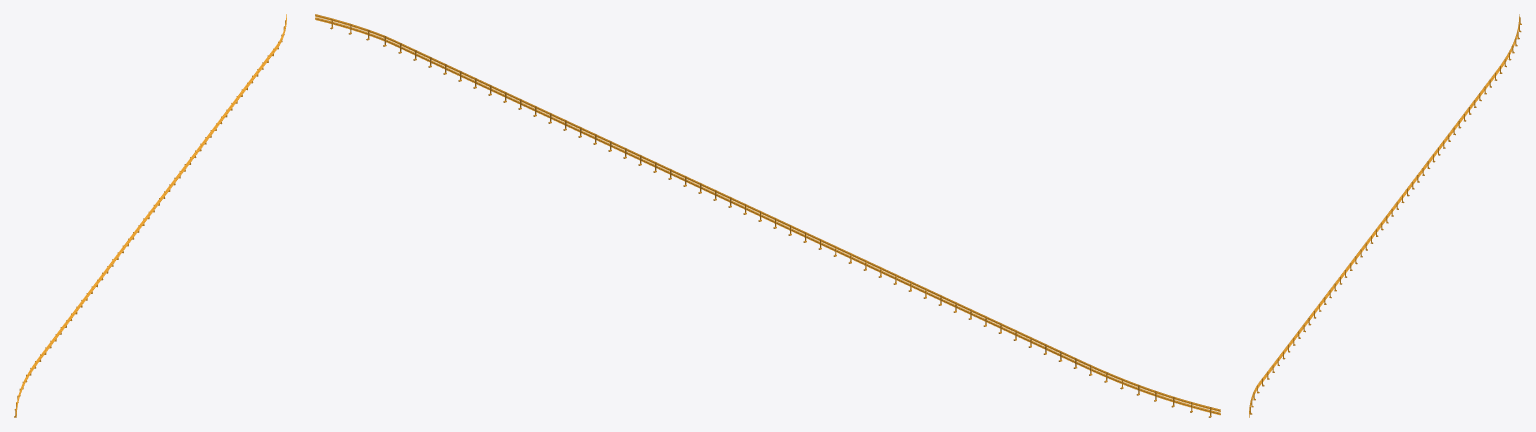
File: SM_Fence_Road_WBeam_Double_Metal_140x40m_Shift.fbx
The picture shows the model from 3 angles, left to right: view 1: azimuth 90°, elevation 25°; view 2: azimuth 150°, elevation 25°; view 3: azimuth 270°, elevation 25°; orthographic projection. The views are drawn at different scales.
Visible parts, largest first — view 1: SM_Fence_Road_WBeam_Double_Metal_140x40m_Shift; view 2: SM_Fence_Road_WBeam_Double_Metal_140x40m_Shift; view 3: SM_Fence_Road_WBeam_Double_Metal_140x40m_Shift.
Boxes of the visible parts, x1,y1,x2,y2 form: SM_Fence_Road_WBeam_Double_Metal_140x40m_Shift: [14, 14, 286, 417]; SM_Fence_Road_WBeam_Double_Metal_140x40m_Shift: [315, 14, 1220, 417]; SM_Fence_Road_WBeam_Double_Metal_140x40m_Shift: [1249, 14, 1521, 417].
Bounding box in the file's own units: 140 × 1.2 × 40.4.
